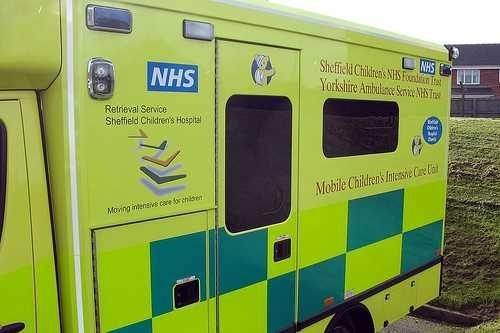car: (0, 0, 454, 332)
